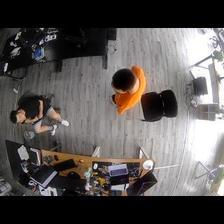normal: (9, 91, 74, 138), (108, 63, 149, 115)
